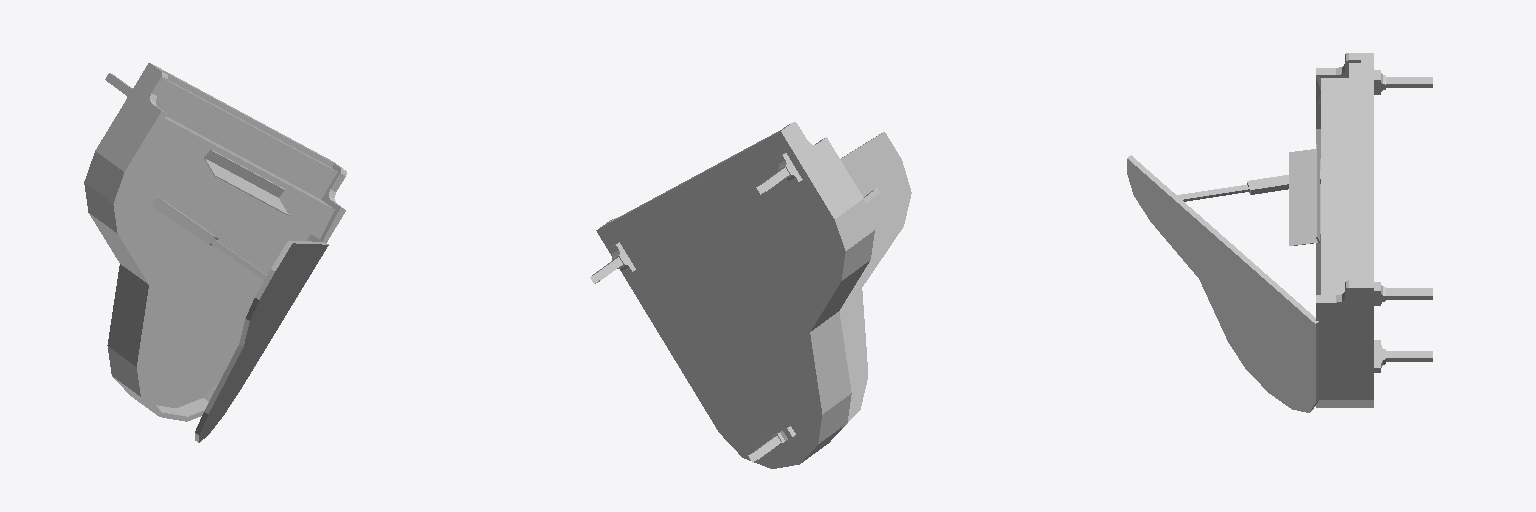
Rendered from Piano.obj.
3 renders of one model, left to right at view 1: azimuth 30°, elevation 25°; view 2: azimuth 150°, elevation 25°; view 3: azimuth 270°, elevation 25°, orthographic.
Parts seen in each view (by area): view 1: Piano; view 2: Piano; view 3: Piano.
Boxes of the visible parts, x1,y1,x2,y2 form: Piano: [84, 63, 346, 442]; Piano: [590, 122, 911, 468]; Piano: [1127, 53, 1432, 412].
Bounding box in the file's own units: 27.06 × 36.01 × 28.68.